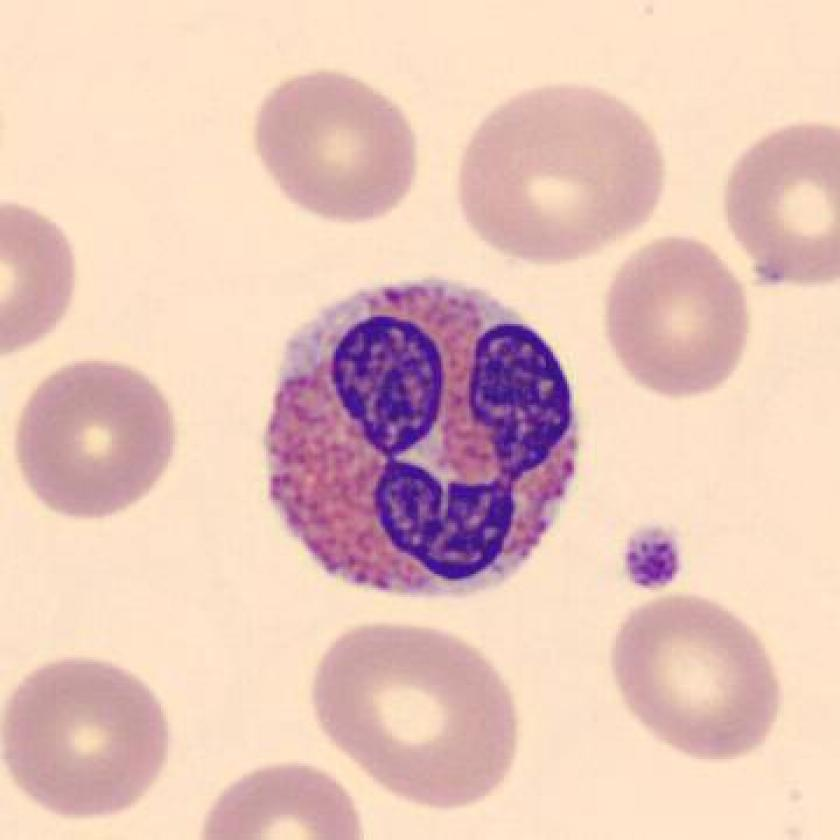eosinophil: (239, 260, 591, 612)
